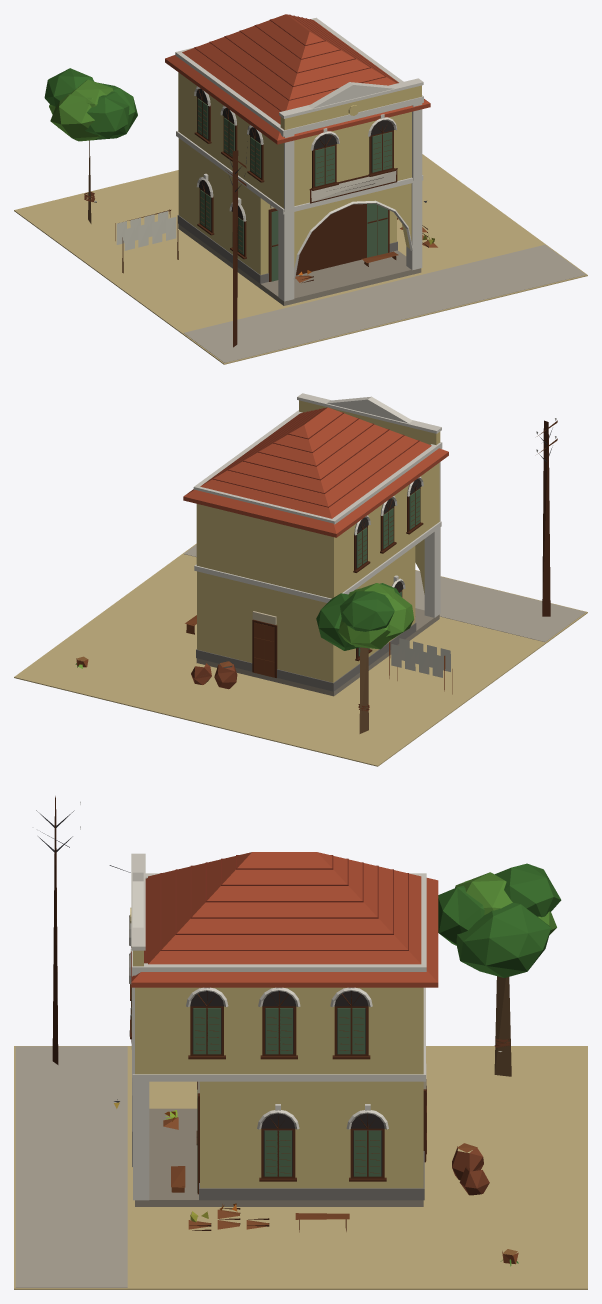
The model's file is shop_1.glb.
The picture shows the model from 3 angles, top to bottom: view 1: azimuth 30°, elevation 25°; view 2: azimuth 150°, elevation 25°; view 3: azimuth 270°, elevation 25°; orthographic projection. The views are drawn at different scales.
Parts seen in each view (by area): view 1: body, windows; view 2: body, windows; view 3: body, windows.
Part boxes in pixels (<box>): body: <box>14,14,587,364</box>; windows: <box>196,88,394,254</box>; body: <box>14,393,587,766</box>; windows: <box>356,479,421,656</box>; body: <box>14,796,587,1289</box>; windows: <box>114,991,384,1176</box>.
Bounding box in the file's own units: 15.9 × 9.81 × 15.9.
